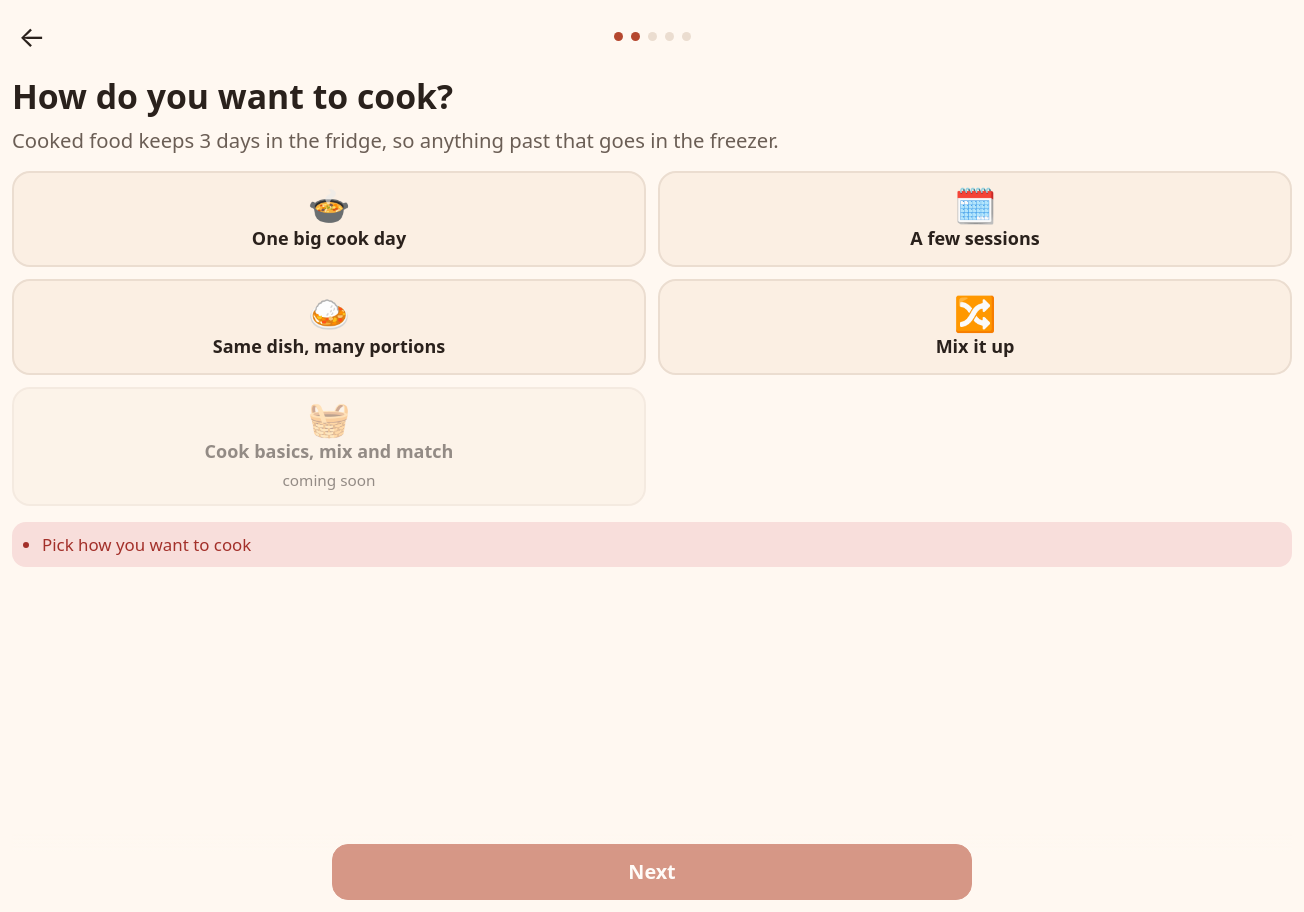
C1b How do you want to cook? (H5): the four options, down to the request › Next waits for a choice, and a cook day needs some time
Expected: the button "Next" is disabled, [332,844,972,900]
Expected: the list item "Pick how you want to cook" is shown, [42,533,251,556]
Click the button "🍲 One big cook day" at (329, 219), box [12,171,646,267]
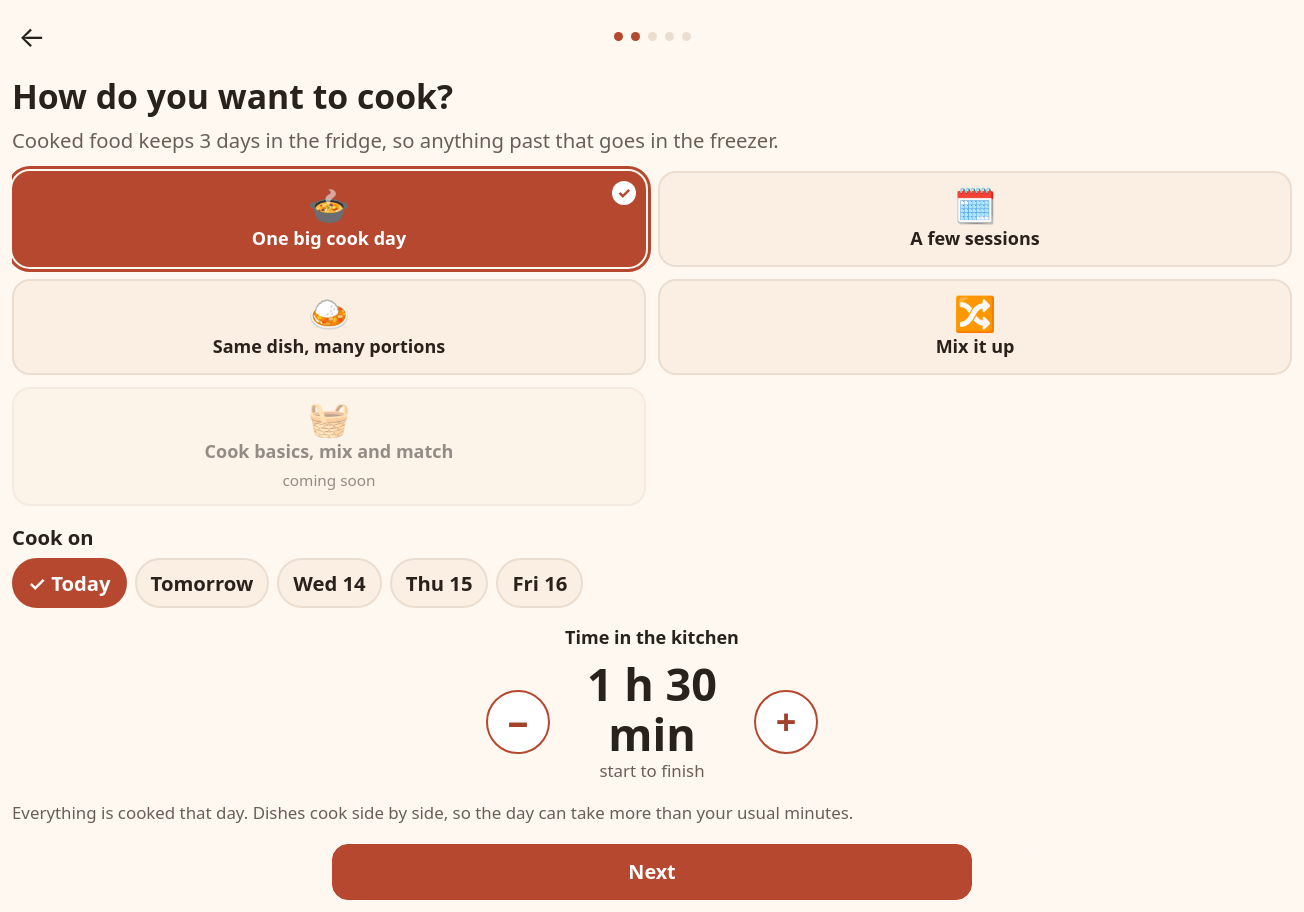
Click the button "1 h 30 min" at (652, 709), box [562,659,742,758]
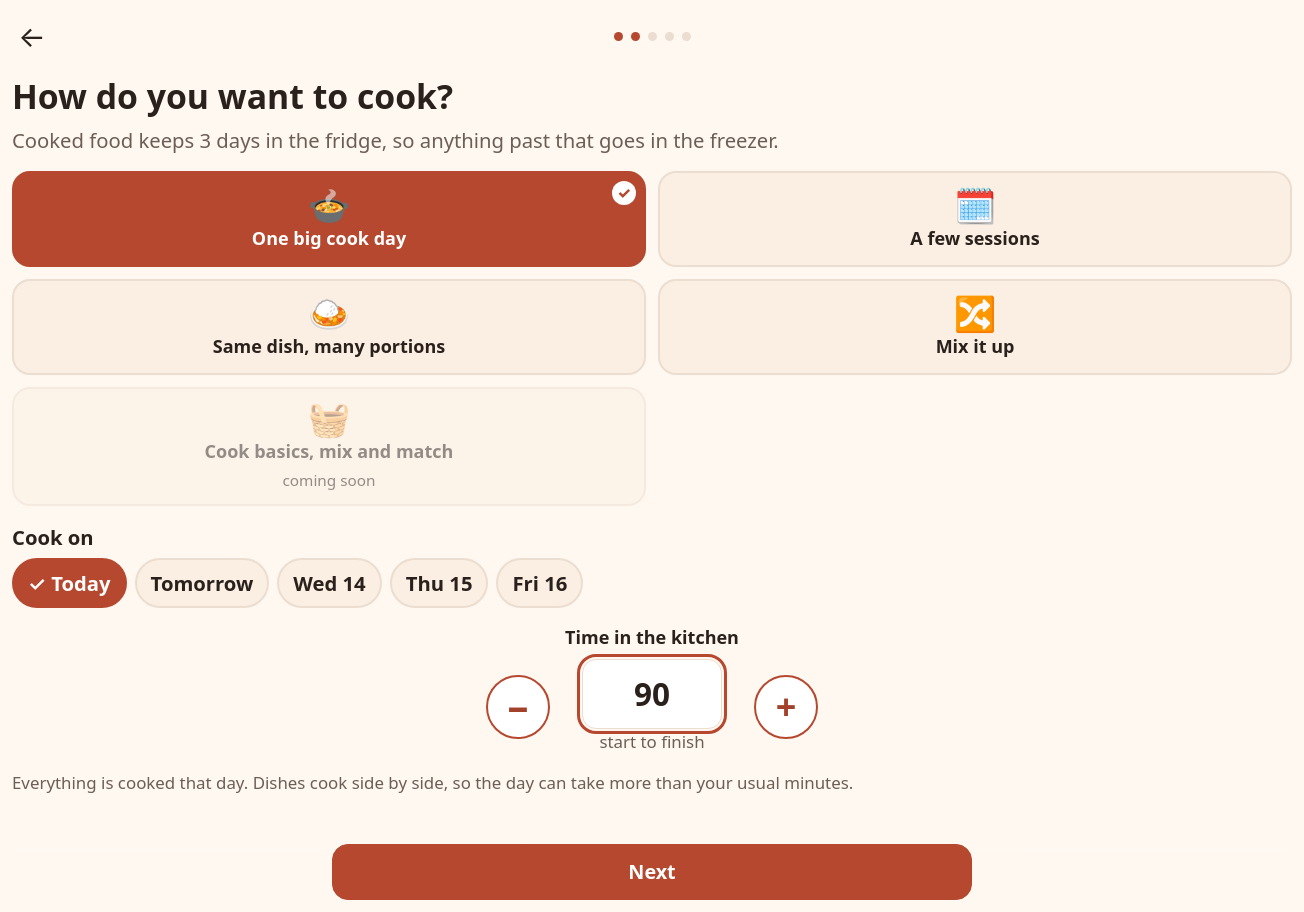
Replace the text in the field named "Time in the kitchen, type a number" with "0" at (652, 694), box [582,659,722,729]
Then press Enter
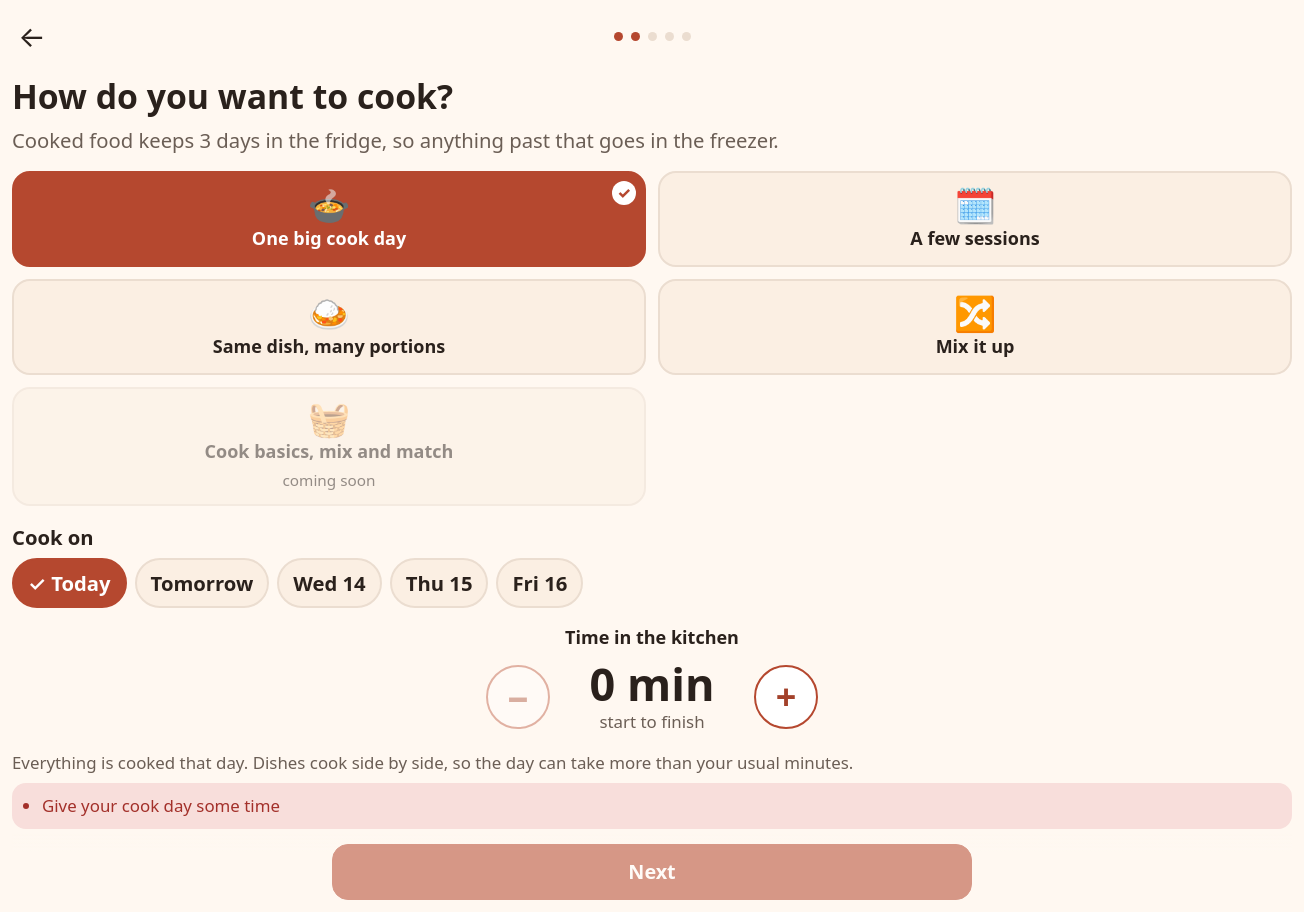
Expected: the list item "Give your cook day some time" is shown, [42,794,280,818]
